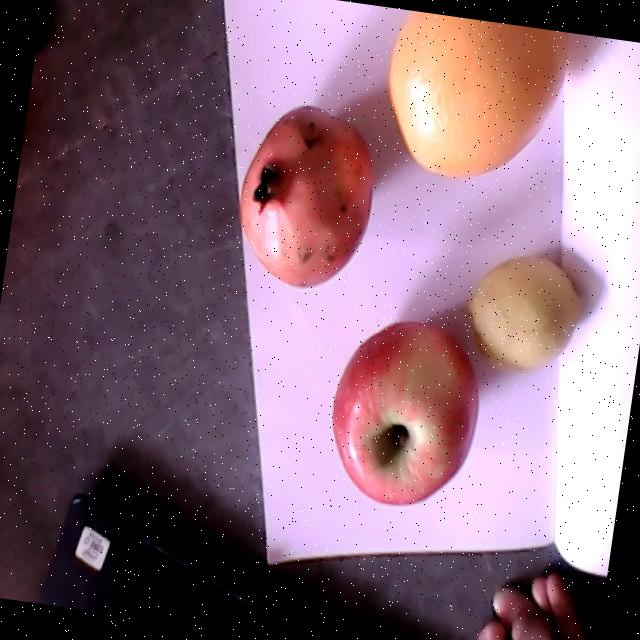apple: (334, 321, 479, 504)
lemon: (468, 257, 584, 369)
orange: (387, 13, 567, 176)
pomegranate: (240, 105, 375, 287)
